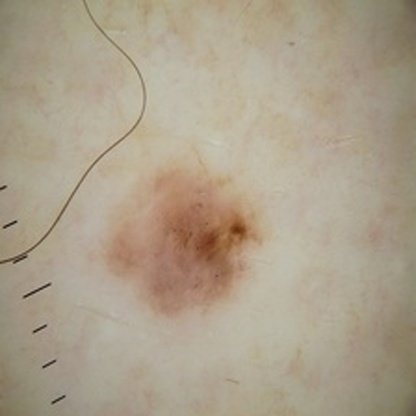malignant: (113, 165, 272, 307)
